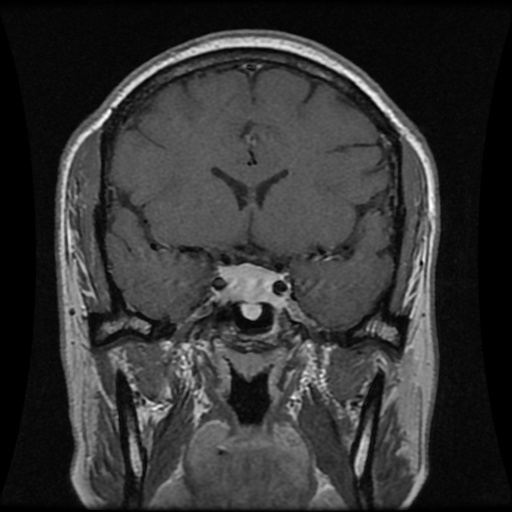pituitary: (220, 263, 277, 320)
